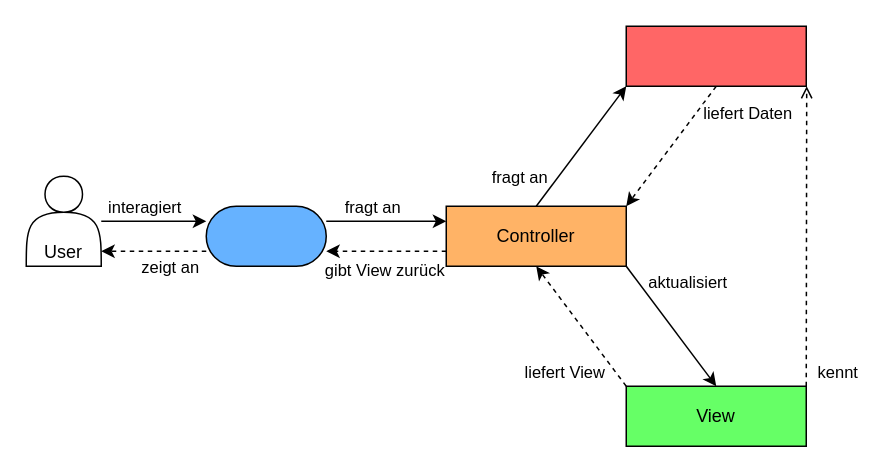
The diagram is 884 pixels wide and 473 high, and some of its shapes have lost their labels. Each missing label, with the centre of its shape:
"Browser" belongs at [265,235].
"Model" belongs at [715,55].
